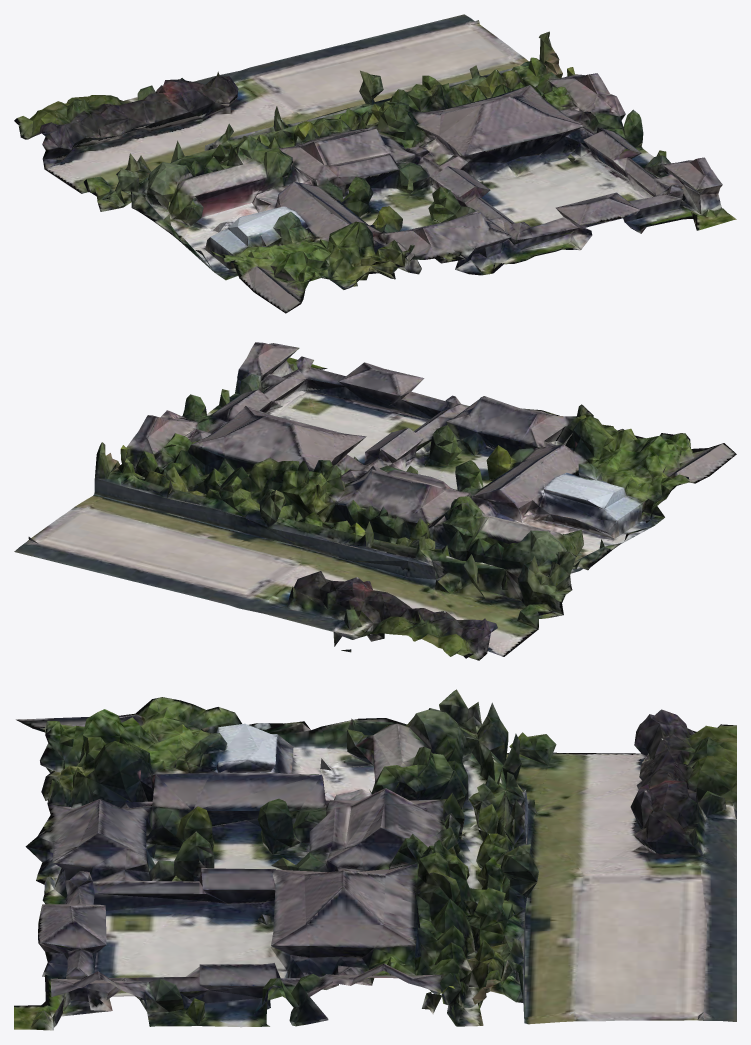
3 views of the same model, one above another, from view 1: azimuth 30°, elevation 25°; view 2: azimuth 150°, elevation 25°; view 3: azimuth 270°, elevation 25° (orthographic). The views are drawn at different scales.
Size of the model in its own units: 109 by 16.12 by 112.
Materials: 1 (1 with a texture image).
